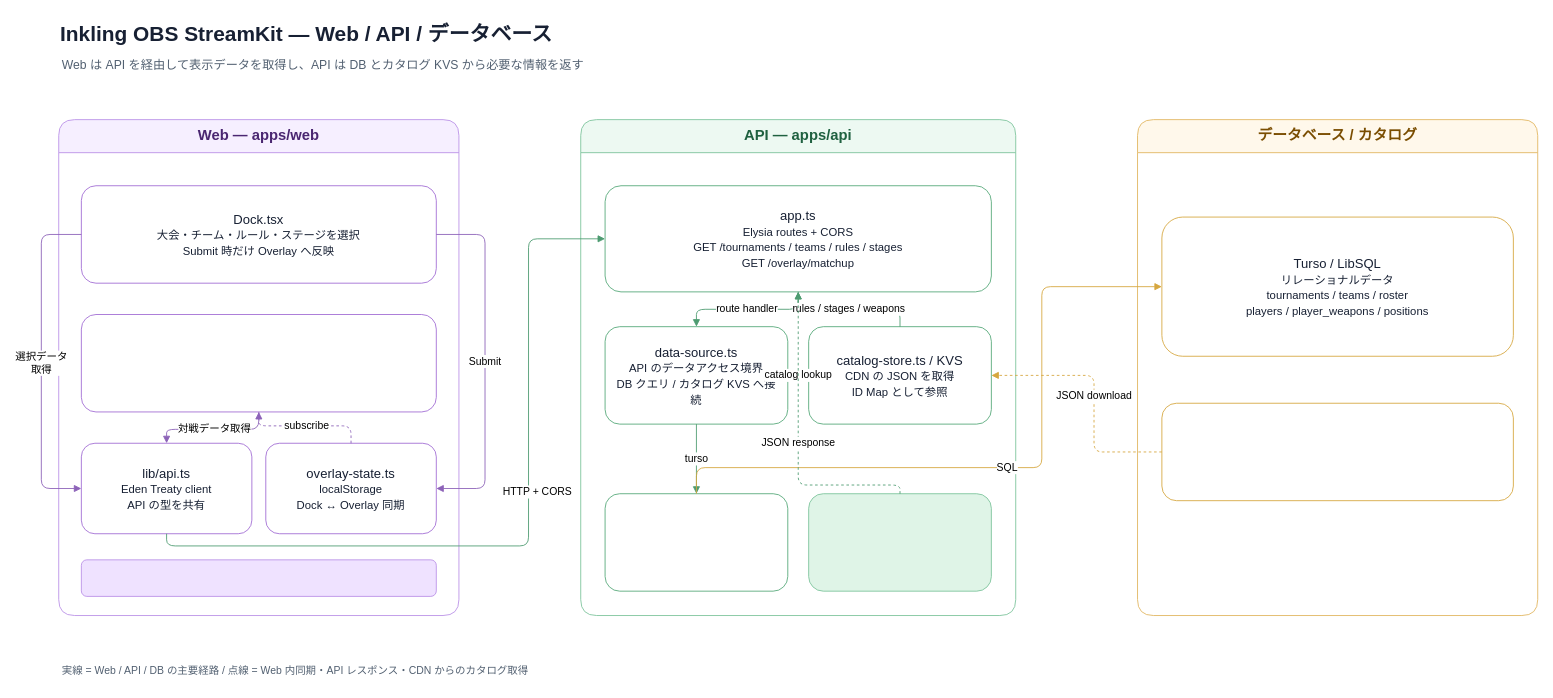
This 1553x698 diagram has some shape labels left out. The centre of each missing label's shape, as x and y in pixels:
"API response participants + rule + stage → Web の Overlay へ返却" belongs at point 899,542.
"Catalog CDN weapons.json / rules.json / stages.json API のカタログ KVS の入力" belongs at point 1337,451.
"db/queries.ts Turso / LibSQL 用クエリ チーム・名簿・プレイヤーを取得" belongs at point 696,542.
"Overlay.tsx 対戦カード・チーム情報を描画 GET /overlay/matchup" belongs at point 258,363.
"同一 Vite アプリ ?view=dock / ?view=overlay" belongs at point 258,577.
